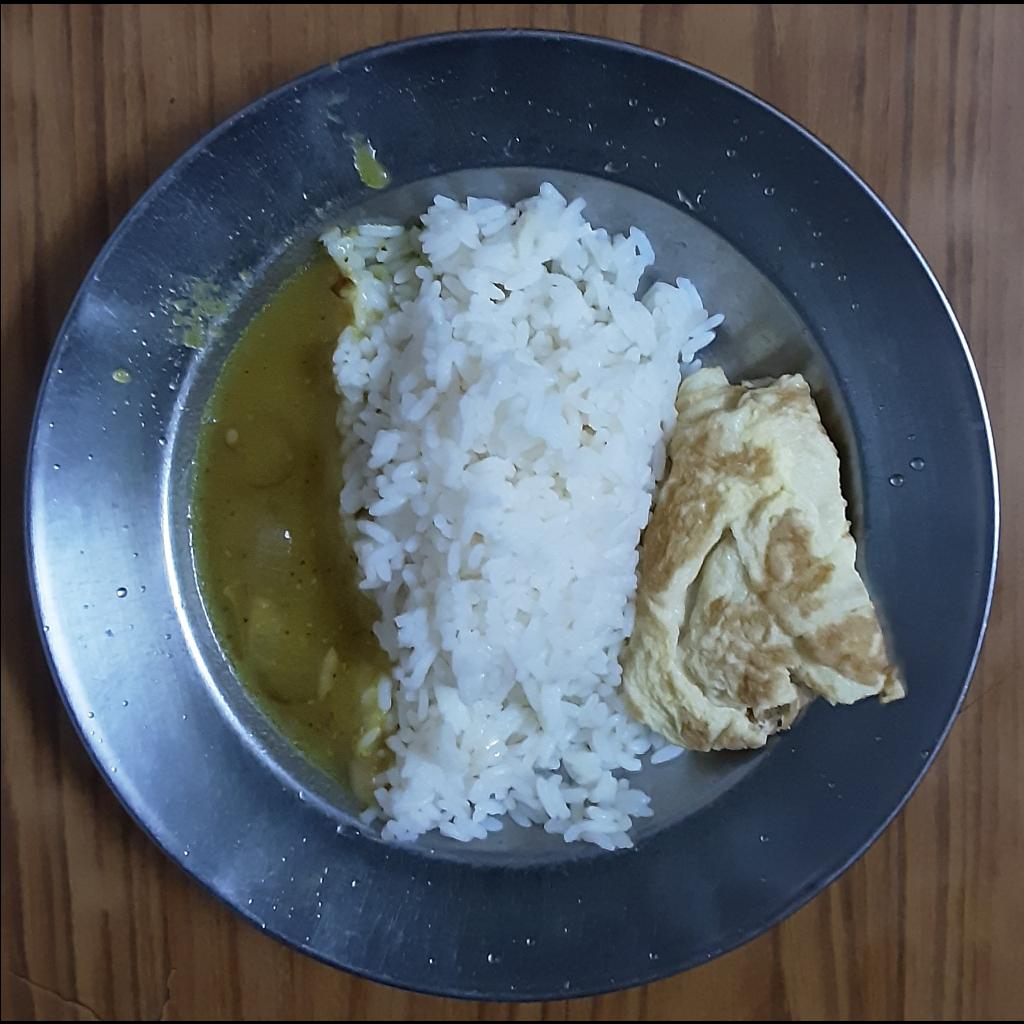daal: (188, 249, 378, 789)
egg-poached: (622, 363, 905, 753)
rice: (318, 182, 725, 845)
